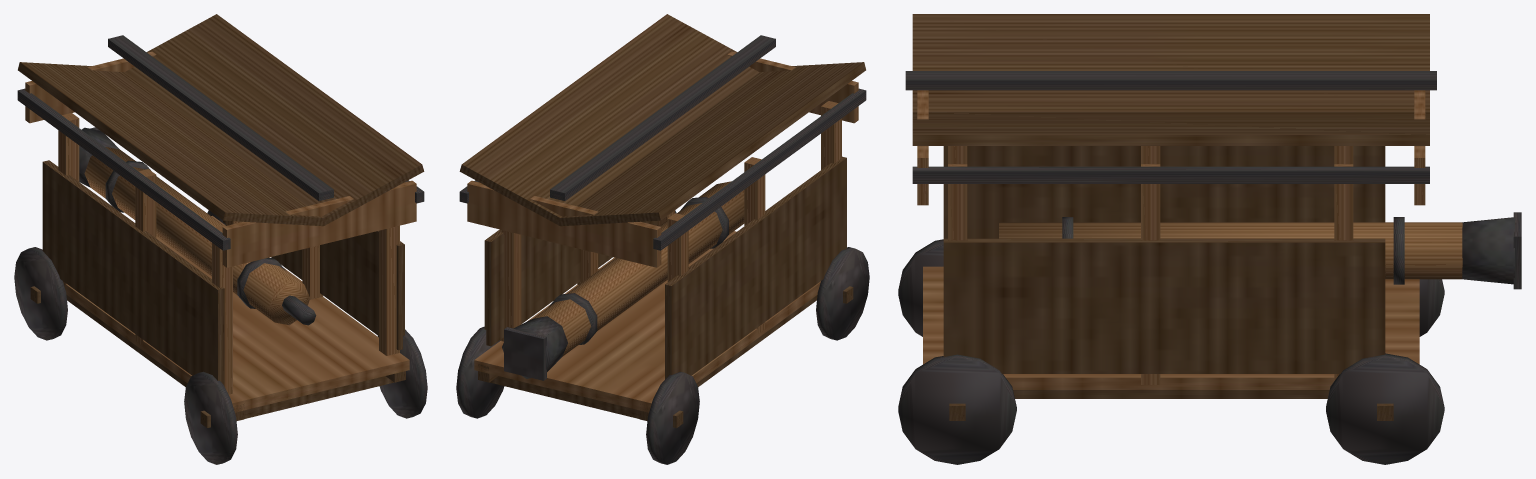
The model's file is ae_ram_lod1.glb.
3 views of the same model, side by side, from view 1: azimuth 30°, elevation 25°; view 2: azimuth 150°, elevation 25°; view 3: azimuth 270°, elevation 25° (orthographic). The views are drawn at different scales.
Parts seen in each view (by area): view 1: roofR, wallL, roofL, floor, gable_r, log_core, wallR, ridge, eaveL, wheel_RL_tyre, wheel_FL_tyre, post_1_0 (+12 smaller); view 2: roofR, wallL, roofL, floor, log_core, gable_f, wallR, ridge, eaveL, wheel_FL_tyre, wheel_RL_tyre, wheel_FR_tyre (+12 smaller); view 3: wallR, roofL, wallL, roofR, ridge, wheel_RR_tyre, wheel_FR_tyre, log_core, floor, eaveR, ram_head, runnerR (+8 smaller).
Boxes of the visible parts, box(x1,y1,x2,y2) form: roofR: box(125, 14, 424, 225); wallL: box(42, 160, 224, 386); roofL: box(18, 62, 325, 226); floor: box(65, 215, 409, 412); gable_r: box(222, 180, 416, 267); log_core: box(84, 147, 310, 325); wallR: box(223, 220, 404, 350); ridge: box(108, 35, 333, 200); eaveL: box(17, 88, 230, 250); wheel_RL_tyre: box(184, 371, 237, 464); wheel_FL_tyre: box(14, 247, 67, 340); post_1_0: box(379, 225, 399, 355); roofR: box(459, 14, 758, 225); wallL: box(665, 156, 846, 379); roofL: box(558, 62, 865, 226); floor: box(474, 231, 820, 412); log_core: box(533, 181, 744, 356); gable_f: box(467, 180, 661, 267); wallR: box(484, 221, 657, 346); ridge: box(550, 35, 775, 200); eaveL: box(653, 88, 866, 250); wheel_FL_tyre: box(646, 371, 699, 464); wheel_RL_tyre: box(816, 247, 869, 340); wheel_FR_tyre: box(456, 326, 504, 418); wallR: box(943, 238, 1385, 373); roofL: box(912, 14, 1429, 111); wallL: box(943, 146, 1385, 238); roofR: box(912, 111, 1429, 145); ridge: box(905, 71, 1436, 90); wheel_RR_tyre: box(898, 354, 1016, 464); wheel_FR_tyre: box(1326, 353, 1444, 464); log_core: box(999, 222, 1462, 279); floor: box(923, 266, 1419, 389); eaveR: box(912, 166, 1429, 183); ram_head: box(1462, 217, 1514, 284); runnerR: box(1013, 390, 1329, 398).
Bounding box in the file's own units: 2.15 × 2.64 × 4.52.
Materials: 2 (2 with a texture image).
